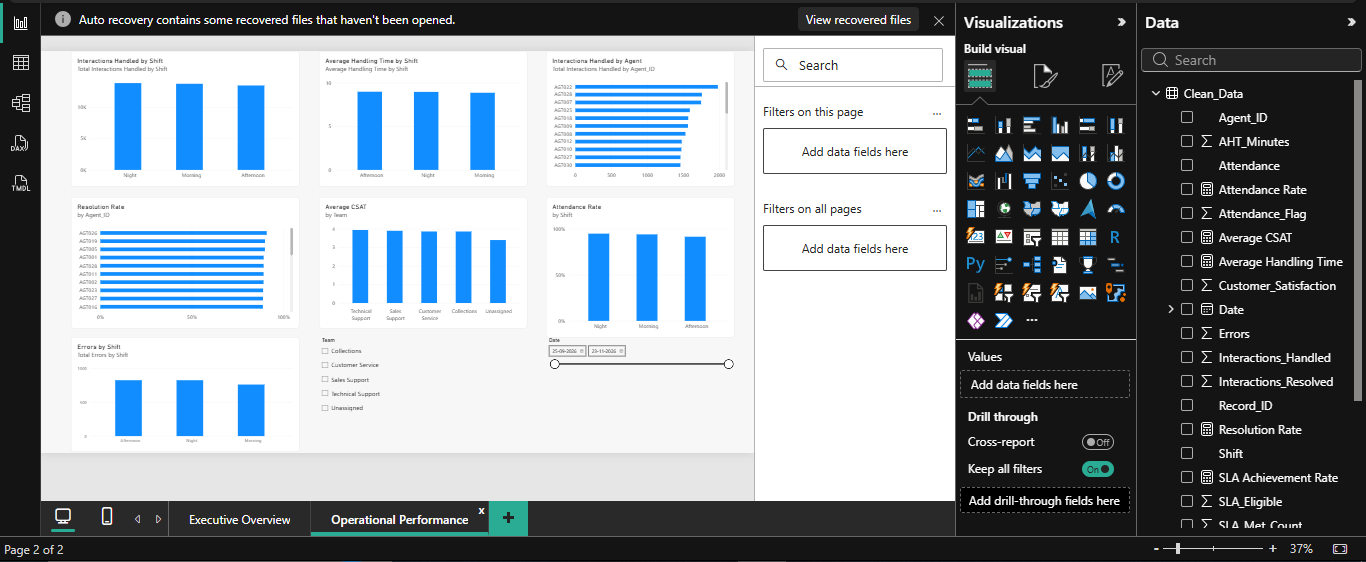

The dashboard page shown, as its layout file describes it:
{"tool":"powerbi","page":{"name":"Operational Performance","canvas":[1920,1080],"ordinal":1},"visuals":[{"type":"clusteredColumnChart","title":"Interactions Handled by Shift","fields":{"Category":["Clean_Data.Shift"],"Y":["Clean_Data.Total Interactions Handled"]},"box":[80.6,0,614.9,365.2],"z":0},{"type":"clusteredColumnChart","title":"Average Handling Time by Shift","fields":{"Category":["Clean_Data.Shift"],"Y":["Clean_Data.Average Handling Time"]},"box":[749.2,0,561.2,365.2],"z":1},{"type":"clusteredBarChart","title":"Interactions Handled by Agent","fields":{"Category":["Clean_Data.Agent_ID"],"Y":["Clean_Data.Total Interactions Handled"]},"box":[1358.8,0,507.5,365.2],"z":2},{"type":"clusteredBarChart","fields":{"Category":["Clean_Data.Agent_ID"],"Y":["Clean_Data.Resolution Rate"]},"box":[80.6,392.1,614.9,354.5],"z":3},{"type":"clusteredColumnChart","fields":{"Category":["Clean_Data.Team"],"Y":["Clean_Data.Average CSAT"]},"box":[749.2,392.1,561.2,354.5],"z":4},{"type":"clusteredColumnChart","fields":{"Category":["Clean_Data.Shift"],"Y":["Clean_Data.Attendance Rate"]},"box":[1358.8,392.1,507.5,378.6],"z":5},{"type":"clusteredColumnChart","title":"Errors by Shift","fields":{"Category":["Clean_Data.Shift"],"Y":["Clean_Data.Total Errors"]},"box":[80.6,770.7,614.9,308.8],"z":6},{"type":"slicer","fields":{"Values":["Clean_Data.Team"]},"box":[749,771,561,309],"z":7},{"type":"slicer","fields":{"Values":["Clean_Data.Date"]},"box":[1359,771,508,309],"z":8}]}

Visuals, with their boxes on the page's 1920x1080 design canvas (x1, y1, x2, y2). These are canvas units, not pixel positions in the 1366x562 screenshot, which may show the page scaled, cropped or inside an application window:
"Interactions Handled by Shift" clusteredColumnChart: left=81, top=0, right=696, bottom=365
"Average Handling Time by Shift" clusteredColumnChart: left=749, top=0, right=1310, bottom=365
"Interactions Handled by Agent" clusteredBarChart: left=1359, top=0, right=1866, bottom=365
clusteredBarChart - Clean_Data.Agent_ID x Clean_Data.Resolution Rate: left=81, top=392, right=696, bottom=747
clusteredColumnChart - Clean_Data.Team x Clean_Data.Average CSAT: left=749, top=392, right=1310, bottom=747
clusteredColumnChart - Clean_Data.Shift x Clean_Data.Attendance Rate: left=1359, top=392, right=1866, bottom=771
"Errors by Shift" clusteredColumnChart: left=81, top=771, right=696, bottom=1080
slicer - Clean_Data.Team: left=749, top=771, right=1310, bottom=1080
slicer - Clean_Data.Date: left=1359, top=771, right=1867, bottom=1080
